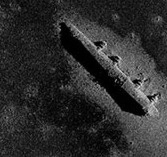ship: (63, 18, 158, 116)
